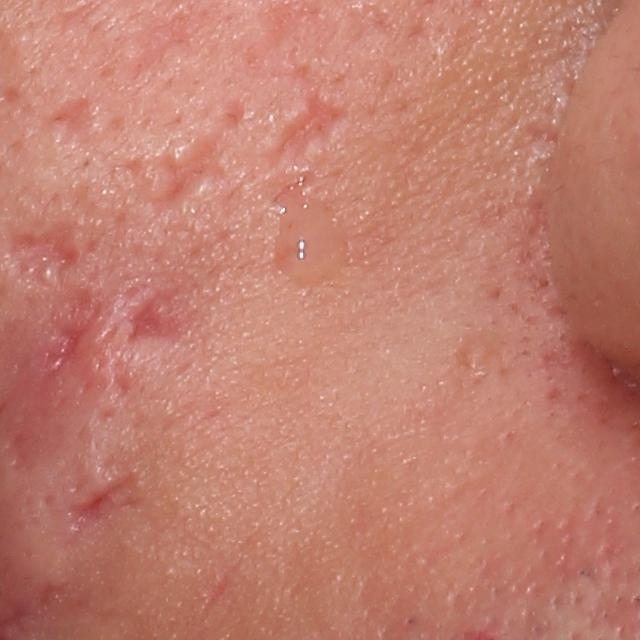atrophic_scar: (129, 99, 249, 212), (97, 3, 212, 94), (259, 84, 354, 169), (36, 289, 106, 386), (63, 470, 142, 548), (3, 219, 81, 279), (125, 287, 183, 346), (46, 95, 88, 152), (108, 347, 145, 407), (1, 85, 22, 111)
hypertrophic_scar: (171, 140, 196, 169)
